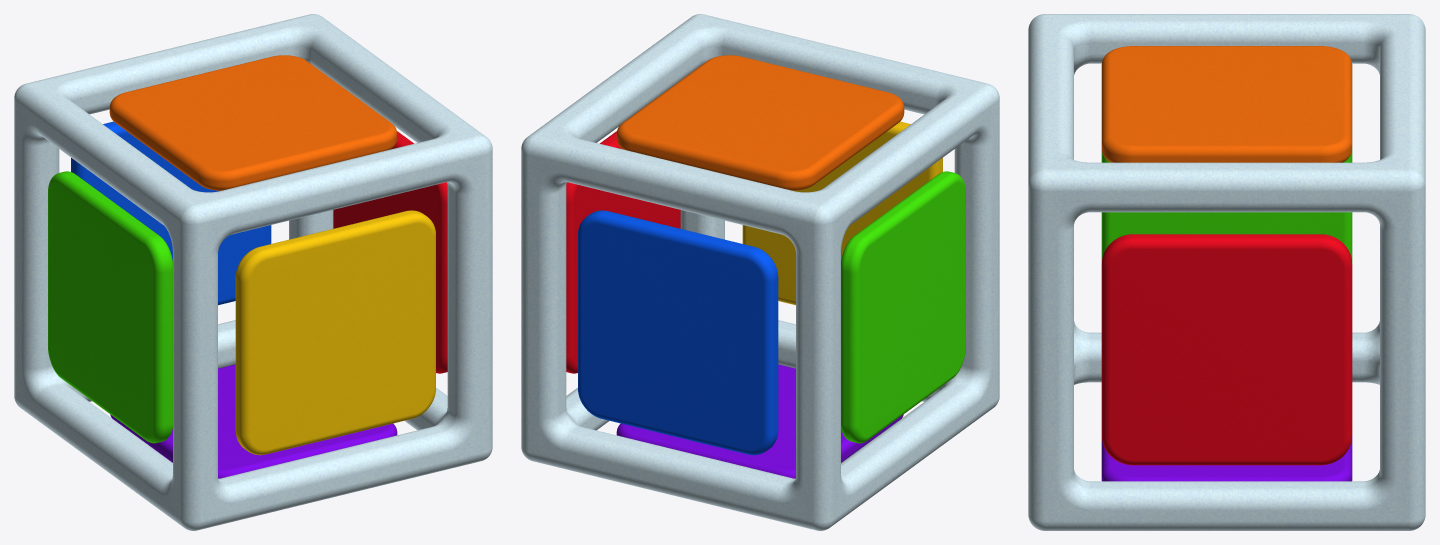
Rendered from snowcube.glb.
3 renders of one model, left to right at view 1: azimuth 30°, elevation 25°; view 2: azimuth 150°, elevation 25°; view 3: azimuth 270°, elevation 25°, orthographic. The views are drawn at different scales.
Visible parts, largest first — view 1: Ice_Frame, Panel_Yellow_Front, Panel_Green_Left, Panel_Orange_Top, Panel_Purple_Bottom, Panel_Red_Right, Panel_Blue_Back; view 2: Ice_Frame, Panel_Blue_Back, Panel_Green_Left, Panel_Orange_Top, Panel_Purple_Bottom, Panel_Red_Right, Panel_Yellow_Front; view 3: Ice_Frame, Panel_Red_Right, Panel_Orange_Top, Panel_Green_Left, Panel_Purple_Bottom.
Boxes of the visible parts, left/top/right/bottom form: Ice_Frame: left=14, top=14, right=492, bottom=530; Panel_Yellow_Front: left=235, top=210, right=435, bottom=455; Panel_Green_Left: left=48, top=171, right=172, bottom=443; Panel_Orange_Top: left=109, top=55, right=397, bottom=190; Panel_Purple_Bottom: left=110, top=364, right=397, bottom=478; Panel_Red_Right: left=333, top=131, right=447, bottom=373; Panel_Blue_Back: left=71, top=121, right=271, bottom=305; Ice_Frame: left=521, top=14, right=999, bottom=530; Panel_Blue_Back: left=578, top=210, right=778, bottom=455; Panel_Green_Left: left=841, top=171, right=965, bottom=443; Panel_Orange_Top: left=616, top=55, right=904, bottom=190; Panel_Purple_Bottom: left=616, top=364, right=903, bottom=478; Panel_Red_Right: left=566, top=131, right=680, bottom=373; Panel_Yellow_Front: left=742, top=121, right=942, bottom=305; Ice_Frame: left=1028, top=14, right=1425, bottom=530; Panel_Red_Right: left=1101, top=234, right=1352, bottom=465; Panel_Orange_Top: left=1101, top=46, right=1352, bottom=162; Panel_Green_Left: left=1101, top=149, right=1352, bottom=262; Panel_Purple_Bottom: left=1101, top=436, right=1352, bottom=481.
Size of the model in its own units: 2 by 2 by 2.
Materials: 7 (7 with a texture image).
